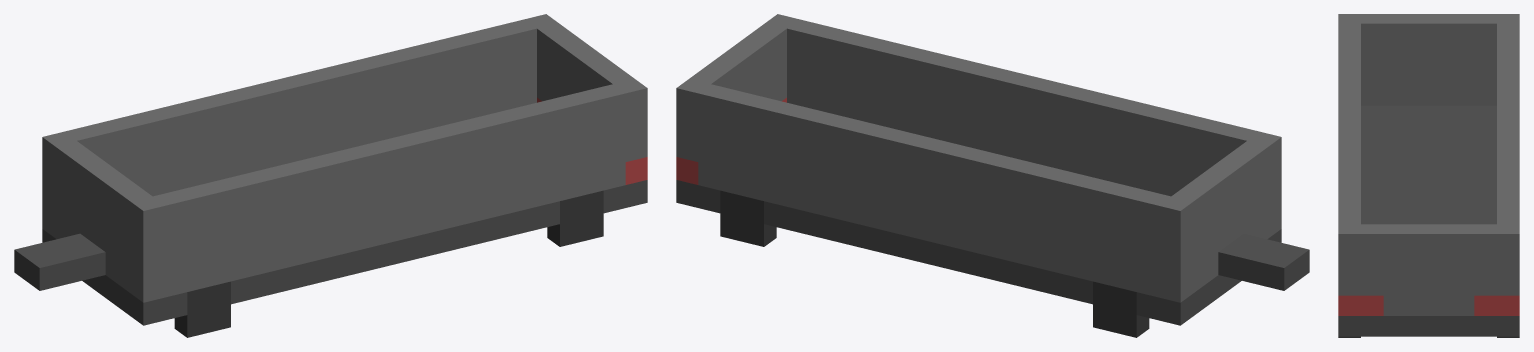
File: tractor-trailer-v1-grey.gltf
The picture shows the model from 3 angles, left to right: view 1: azimuth 30°, elevation 25°; view 2: azimuth 150°, elevation 25°; view 3: azimuth 270°, elevation 25°; orthographic projection. The views are drawn at different scales.
Parts seen in each view (by area): view 1: model, wheels; view 2: model, wheels; view 3: model.
Part boxes in pixels (<box>): model: <box>14,14,647,325</box>; wheels: <box>174,190,603,337</box>; model: <box>676,14,1309,325</box>; wheels: <box>720,190,1149,337</box>; model: <box>1338,14,1519,336</box>.
Size of the model in its own units: 2.6 by 0.6 by 0.8.
Materials: 2 (2 with a texture image).
